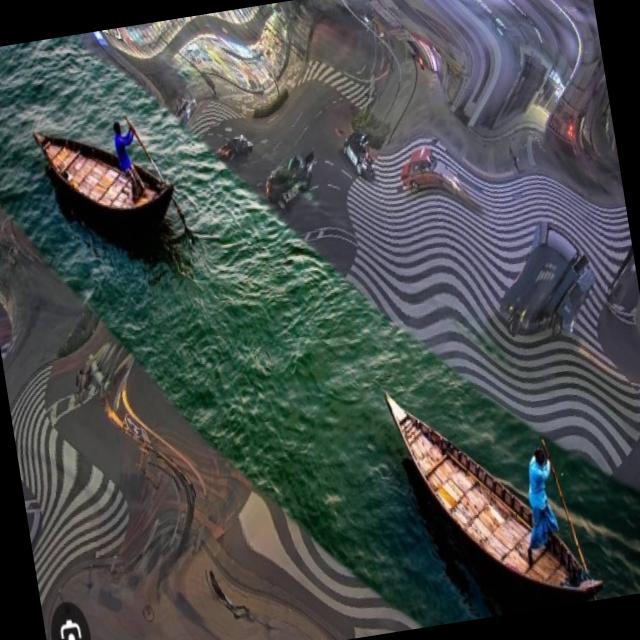boat: (372, 340, 616, 630), (28, 82, 194, 272)
